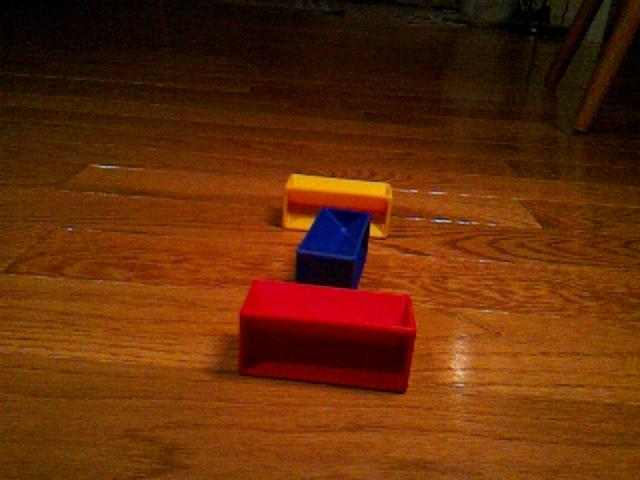blue: (294, 206, 373, 289)
red: (237, 277, 418, 395)
yellow: (281, 171, 394, 240)
